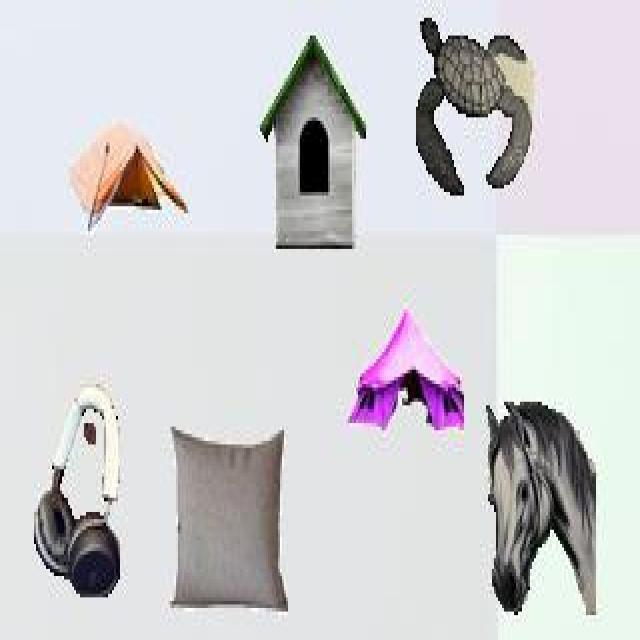Other Objects: (168, 422, 288, 612), (33, 381, 120, 598)
